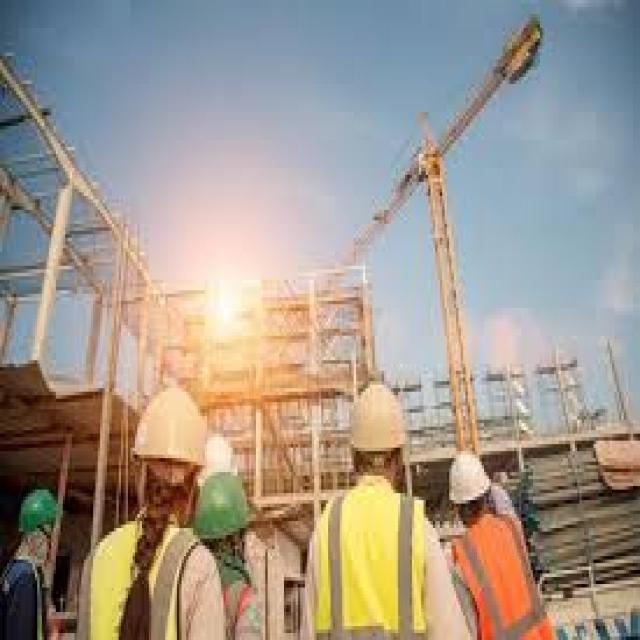Reflective-Jacket: (298, 472, 435, 640), (74, 507, 233, 640), (449, 510, 537, 640), (207, 545, 267, 640), (0, 552, 56, 640)
Safety-Helmet: (125, 374, 218, 483), (186, 455, 268, 556), (339, 374, 416, 469), (7, 479, 72, 556), (440, 444, 498, 518)
